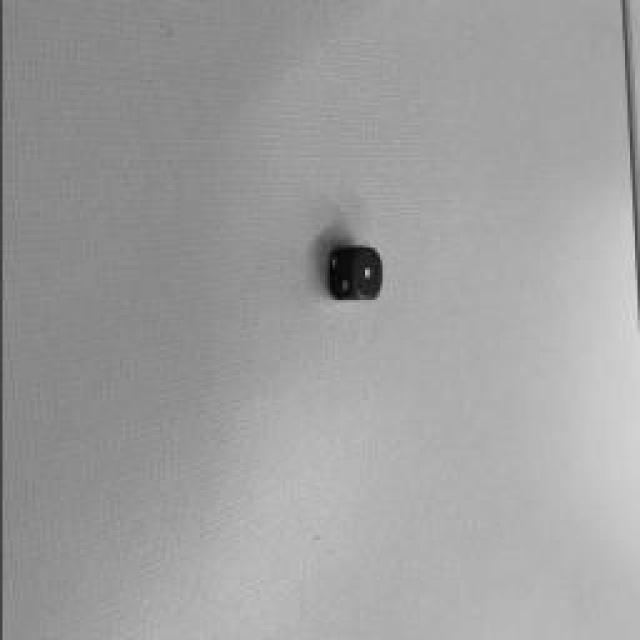dice_1: (351, 246, 381, 302)
